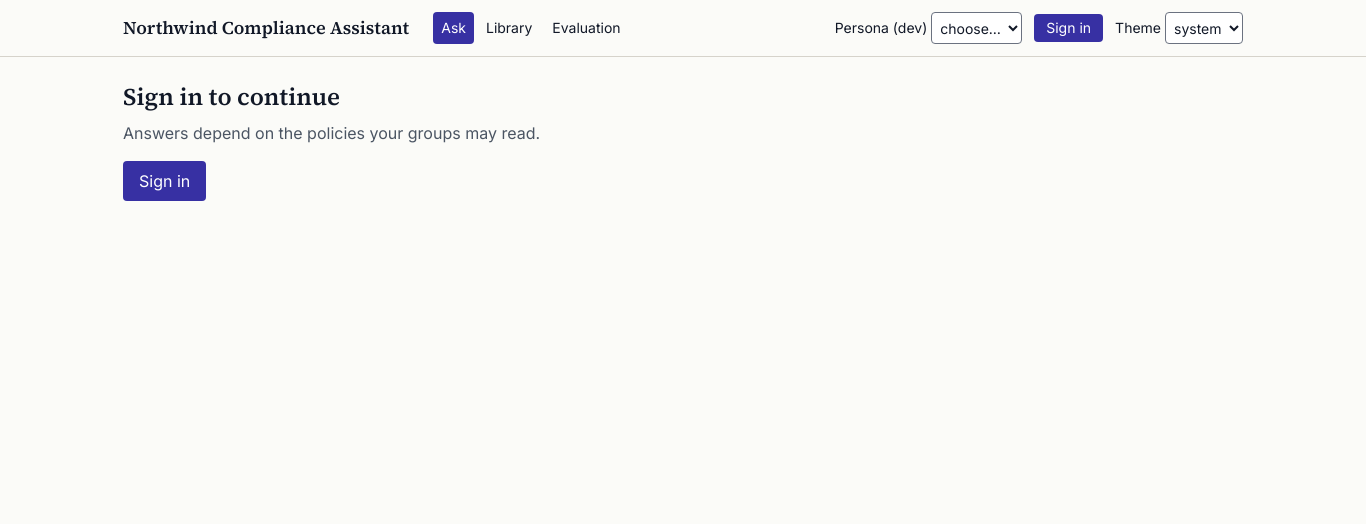
it: the persona switcher keeps focus after a switch
The image size is (1366, 524).
Step 1. Select "legal" in the dropdown labelled "Persona (dev)" → [977, 28], box x1=931 y1=12 x2=1022 y2=44
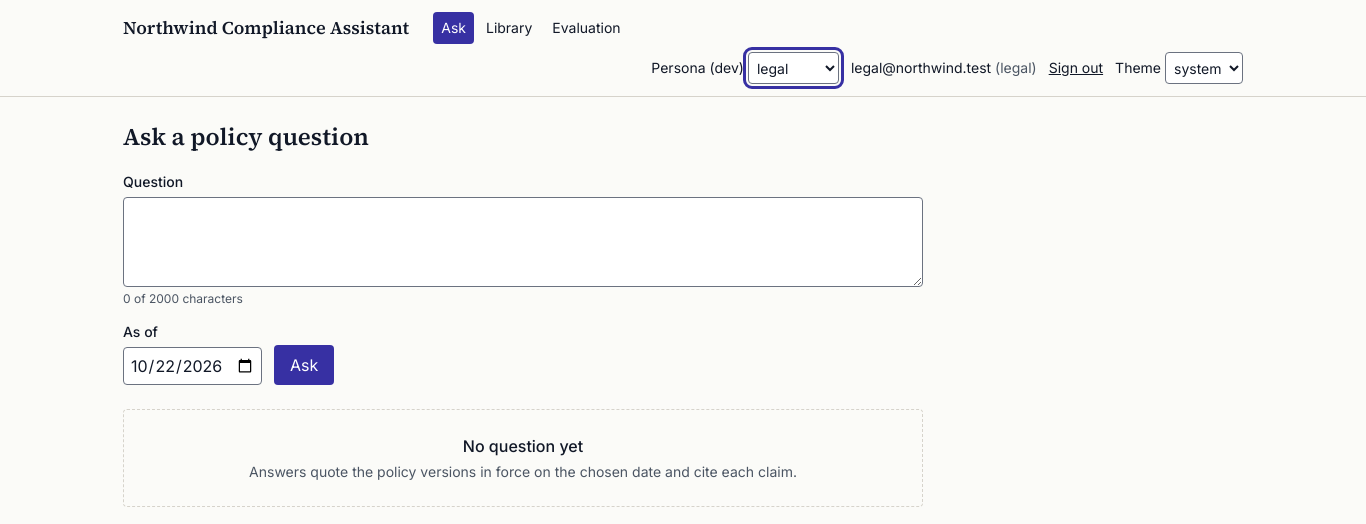
Expected: the text "legal@northwind.test (legal)" is shown, x1=851 y1=58 x2=1037 y2=78
